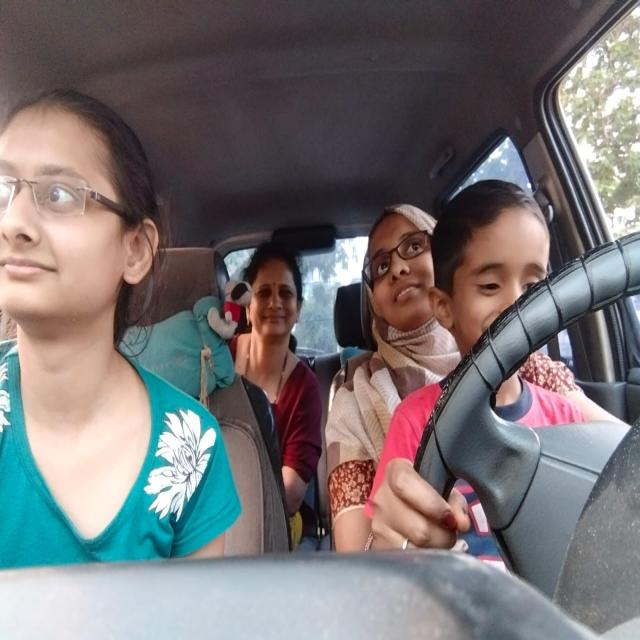child: (432, 180, 554, 326)
person: (0, 84, 159, 320), (354, 203, 437, 326), (247, 247, 309, 346)
